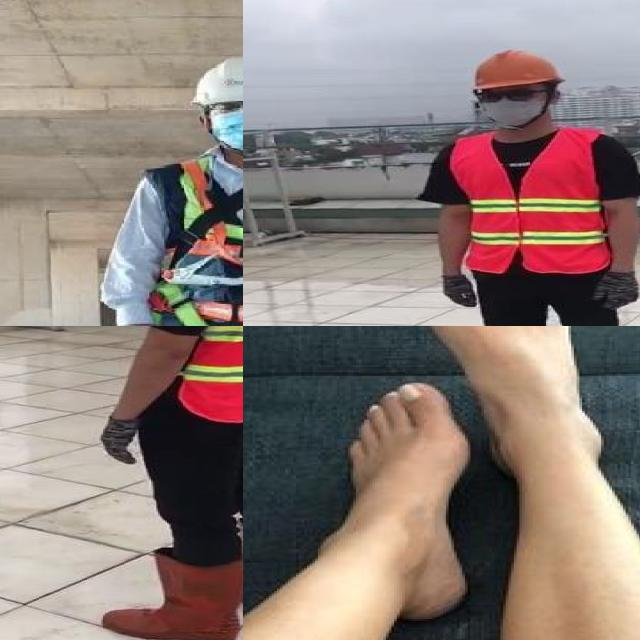Barefoots: (422, 326, 606, 474)
boots: (101, 552, 239, 640)
face_mask: (468, 83, 553, 130), (206, 99, 243, 152)
glasses: (466, 85, 542, 106), (209, 93, 243, 117)
hand_glove: (100, 416, 140, 466), (438, 271, 482, 308), (598, 270, 638, 309)
head_helmet: (462, 47, 566, 90), (190, 57, 243, 106)
person: (407, 46, 640, 326), (89, 326, 243, 640), (96, 60, 243, 326)
vest: (457, 131, 612, 273), (139, 155, 243, 324)
